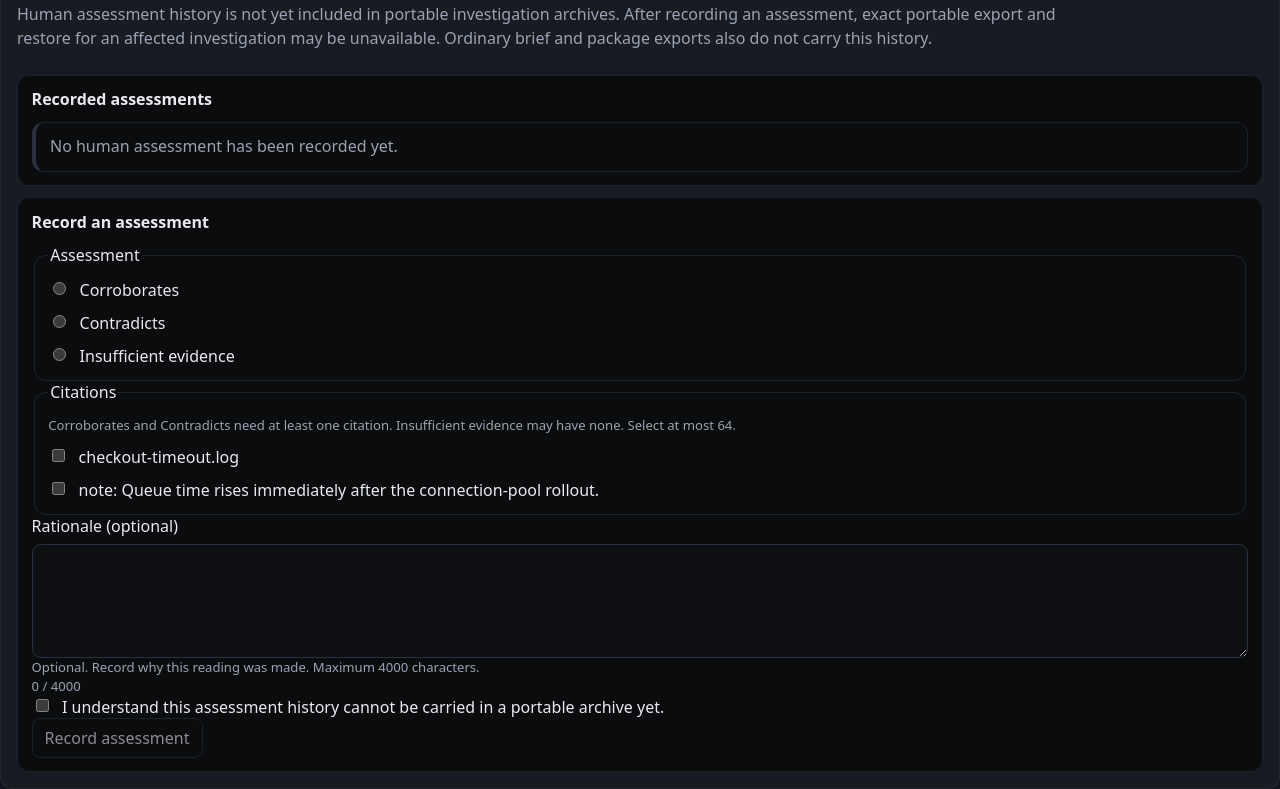
Test: shared human assessments panel › maps case_archived without exposing private detail
The image size is (1280, 789).
(page scrolled)
Click the checkbox labelled "I understand this assessment history cannot be carried" at (42,706), box [36,699,49,712]
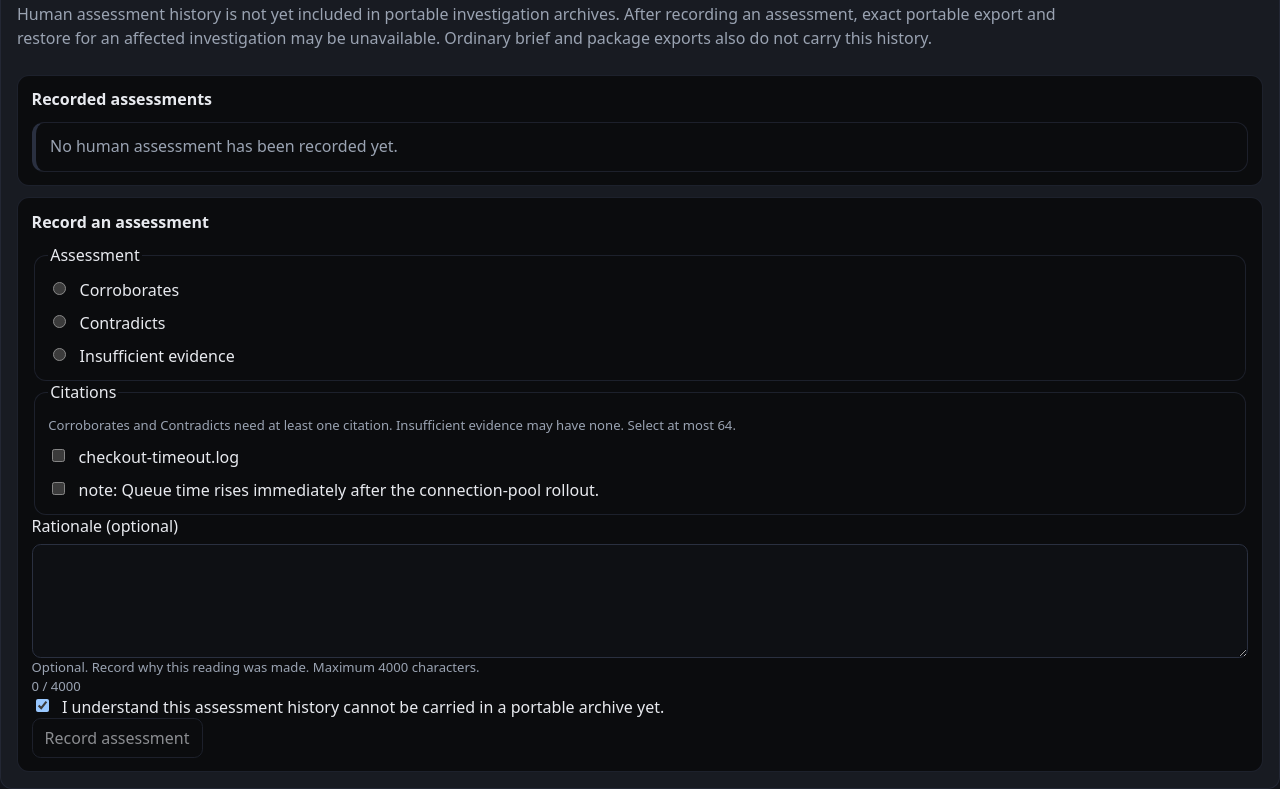
Click the radio button labelled "Insufficient evidence" at (60,355), box [53,348,66,362]
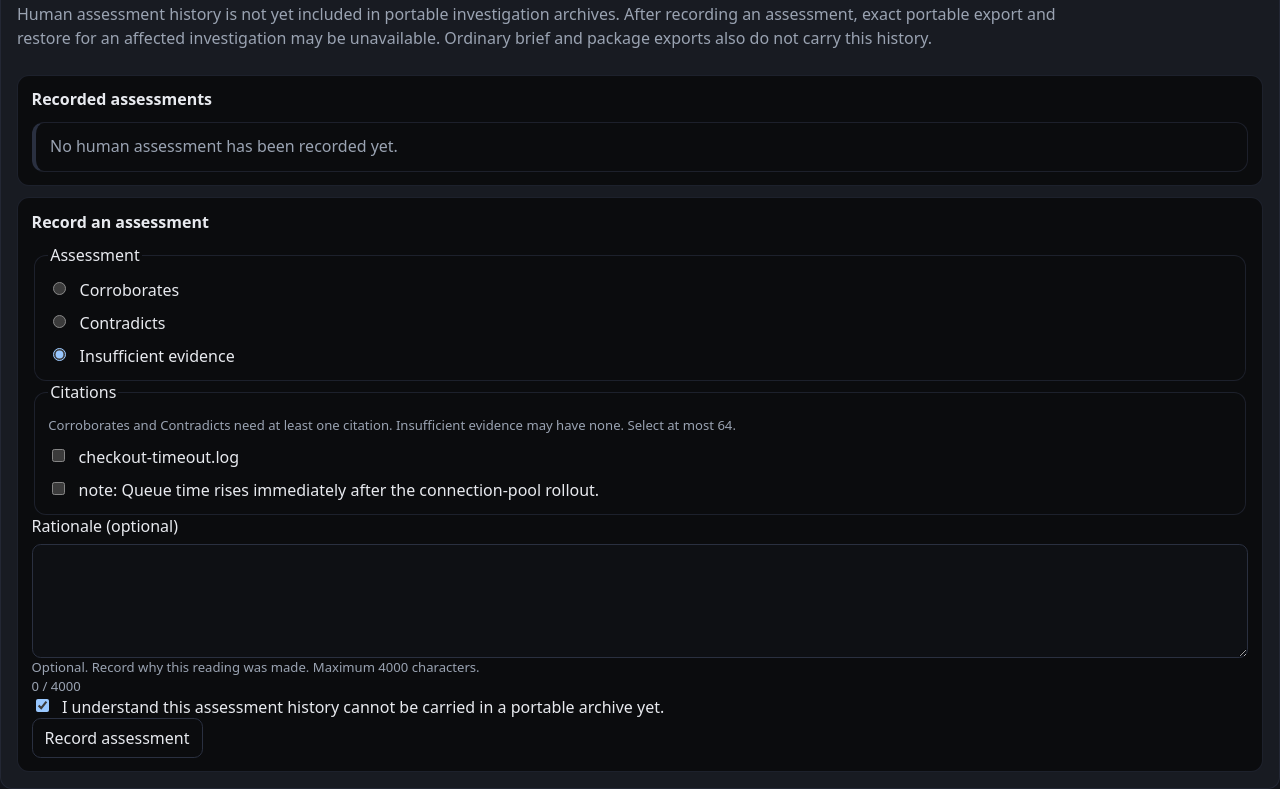
Click the button "Record assessment" at (117,738), box [32,718,202,758]
(page scrolled)
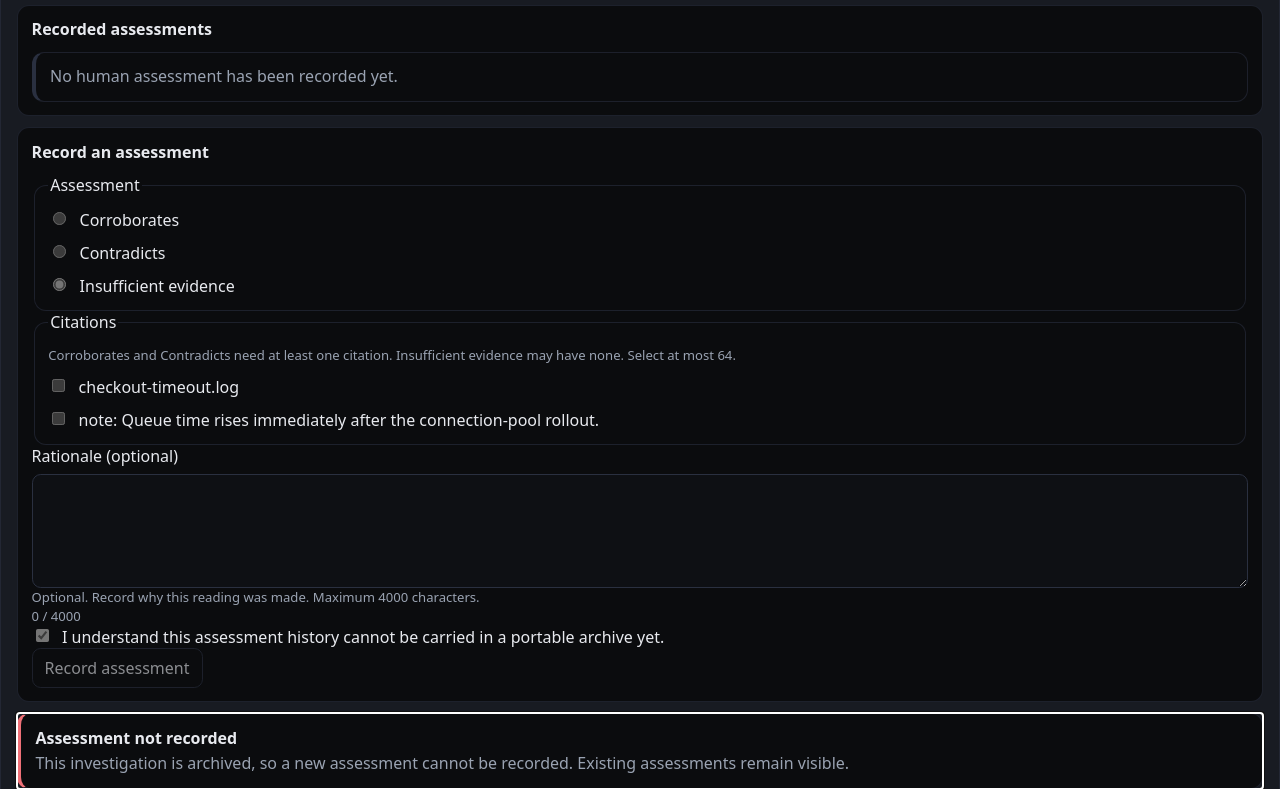
Result: the radio button labelled "Insufficient evidence" is checked at [53,278,66,292]
Result: the message that starts with "Assessment not recorded" shows "investigation is archived" at [35,752,849,774]
